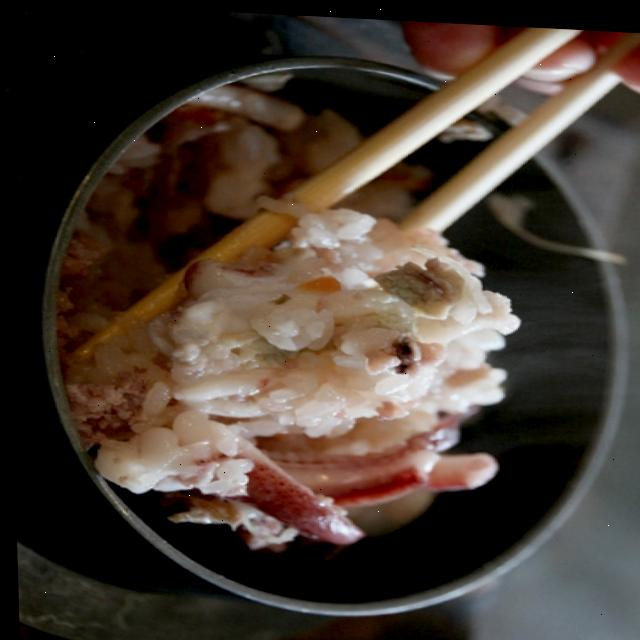炸货点心: (3, 120, 640, 540)
熟制海鲜: (3, 120, 640, 540)
